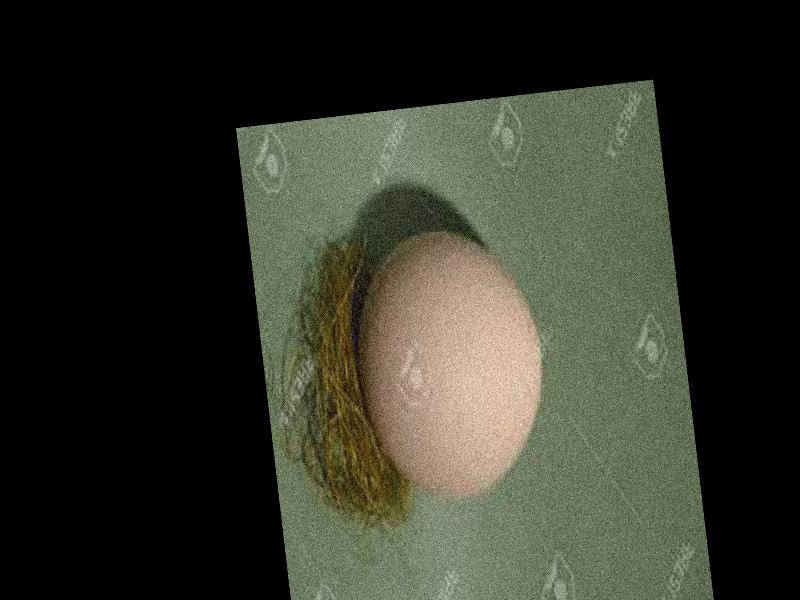Eggs: (347, 220, 557, 506)
